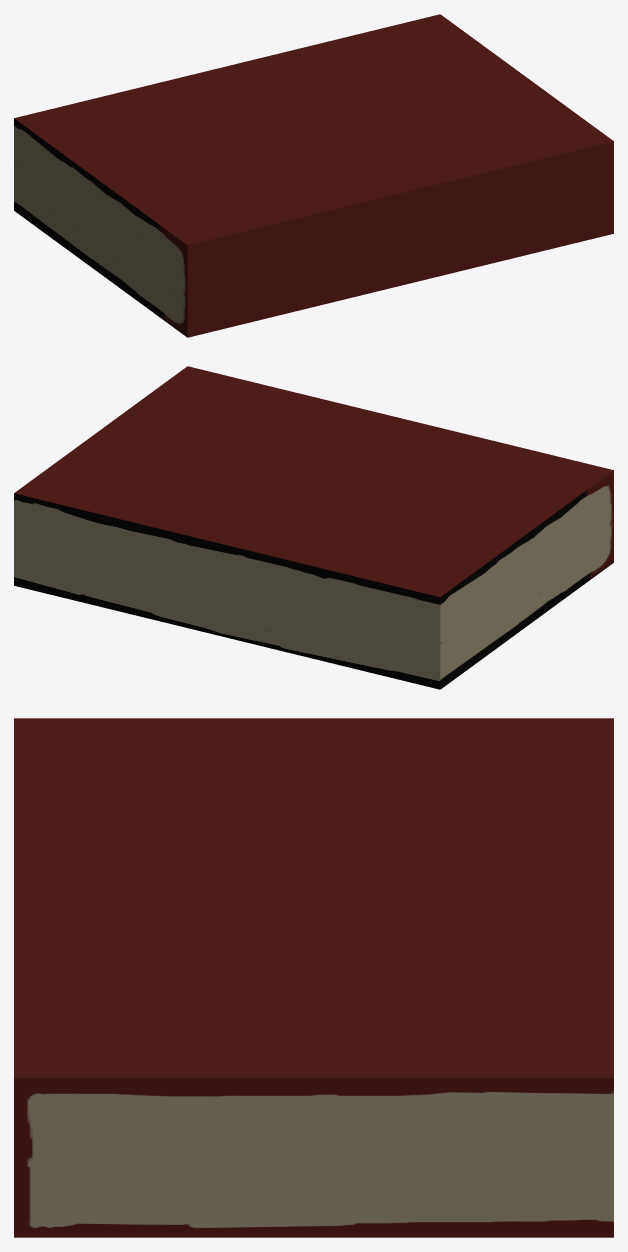
File: Bookk.fbx
3 views of the same model, one above another, from view 1: azimuth 30°, elevation 25°; view 2: azimuth 150°, elevation 25°; view 3: azimuth 270°, elevation 25° (orthographic). The views are drawn at different scales.
Visible parts, largest first — view 1: Cube; view 2: Cube; view 3: Cube.
Boxes of the visible parts, x1,y1,x2,y2 form: Cube: (14, 14, 613, 337); Cube: (14, 366, 613, 689); Cube: (14, 718, 613, 1237).
Size of the model in its own units: 2 by 0.4145 by 1.41.
